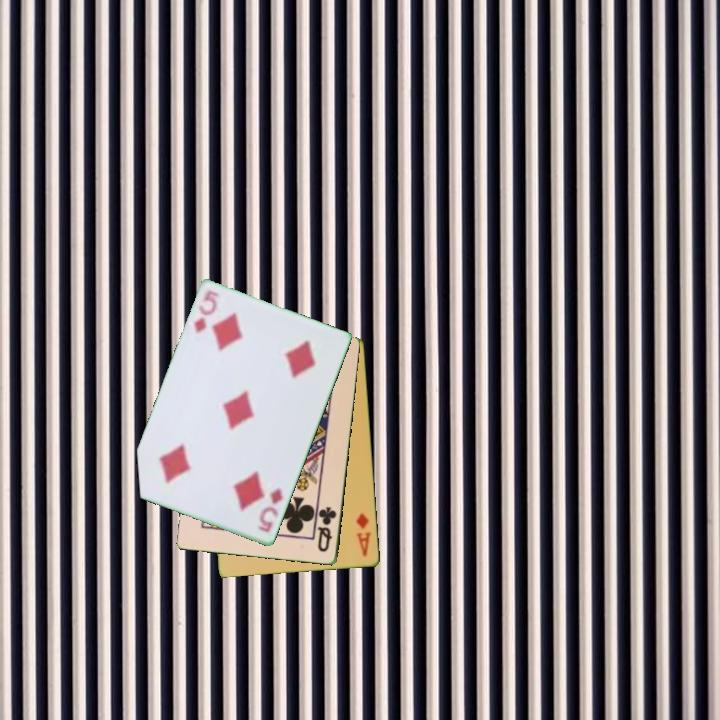5d: (254, 484, 286, 536), (190, 287, 221, 336)
Ad: (353, 510, 374, 560)
Qc: (315, 503, 340, 555)
